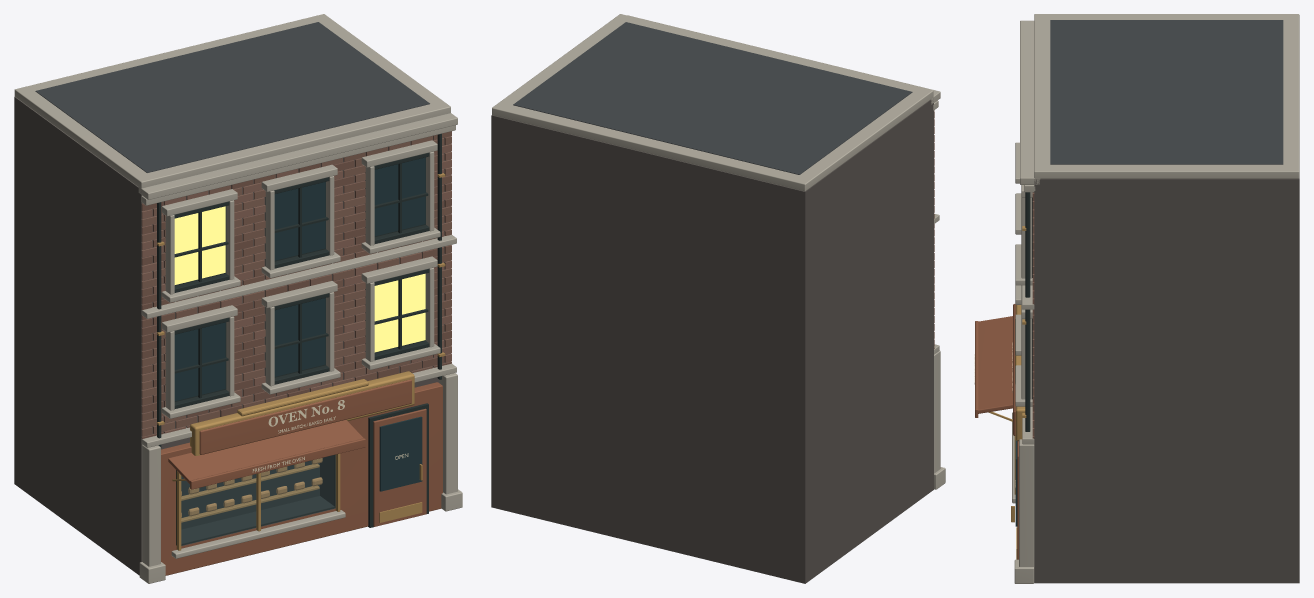
Rendered from district-oven-no-8.glb.
The picture shows the model from 3 angles, left to right: view 1: azimuth 30°, elevation 25°; view 2: azimuth 150°, elevation 25°; view 3: azimuth 270°, elevation 25°; orthographic projection. The views are drawn at different scales.
Visible parts, largest first — view 1: Existing envelope, District Warm limestone, District Roof membrane, District Charcoal painted metal, District Coffee enamel, District Opaque dark glazing, Roof cap, District Shop window clear glazing, District Brick tone 0, District Warm occupied window, District Brick tone 3, Sign enamel inset (+7 smaller); view 2: Existing envelope, District Roof membrane, Roof cap, District Warm limestone; view 3: Existing envelope, District Roof membrane, Roof cap, District Warm limestone, District Coffee enamel, District Charcoal painted metal, District Aged brass.
Part boxes in pixels (<box>): Existing envelope: <box>14,96,450,575</box>; District Warm limestone: <box>138,113,462,583</box>; District Roof membrane: <box>35,22,429,172</box>; District Charcoal painted metal: <box>157,133,441,545</box>; District Coffee enamel: <box>161,382,442,575</box>; District Opaque dark glazing: <box>174,157,425,491</box>; Roof cap: <box>14,14,450,188</box>; District Shop window clear glazing: <box>181,455,335,545</box>; District Brick tone 0: <box>141,160,451,438</box>; District Warm occupied window: <box>174,206,425,352</box>; District Brick tone 3: <box>141,136,451,433</box>; Sign enamel inset: <box>199,379,411,454</box>; Existing envelope: <box>491,100,933,583</box>; District Roof membrane: <box>513,22,912,174</box>; Roof cap: <box>492,14,933,191</box>; District Warm limestone: <box>627,15,945,489</box>; Existing envelope: <box>1034,178,1299,583</box>; District Roof membrane: <box>1050,20,1283,164</box>; Roof cap: <box>1034,14,1299,178</box>; District Warm limestone: <box>1012,20,1040,583</box>; District Coffee enamel: <box>975,316,1012,417</box>; District Charcoal painted metal: <box>1025,192,1032,431</box>; District Aged brass: <box>988,226,1026,559</box>.
Bounding box in the file's own units: 7.71 × 9.26 × 6.62.
